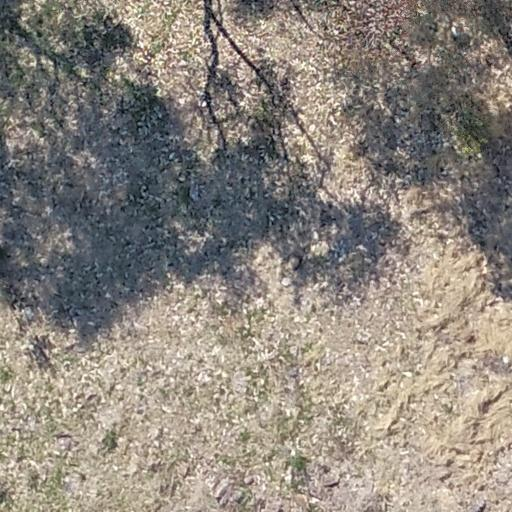stone: (280, 276, 294, 288), (177, 174, 186, 184), (502, 355, 510, 365)
